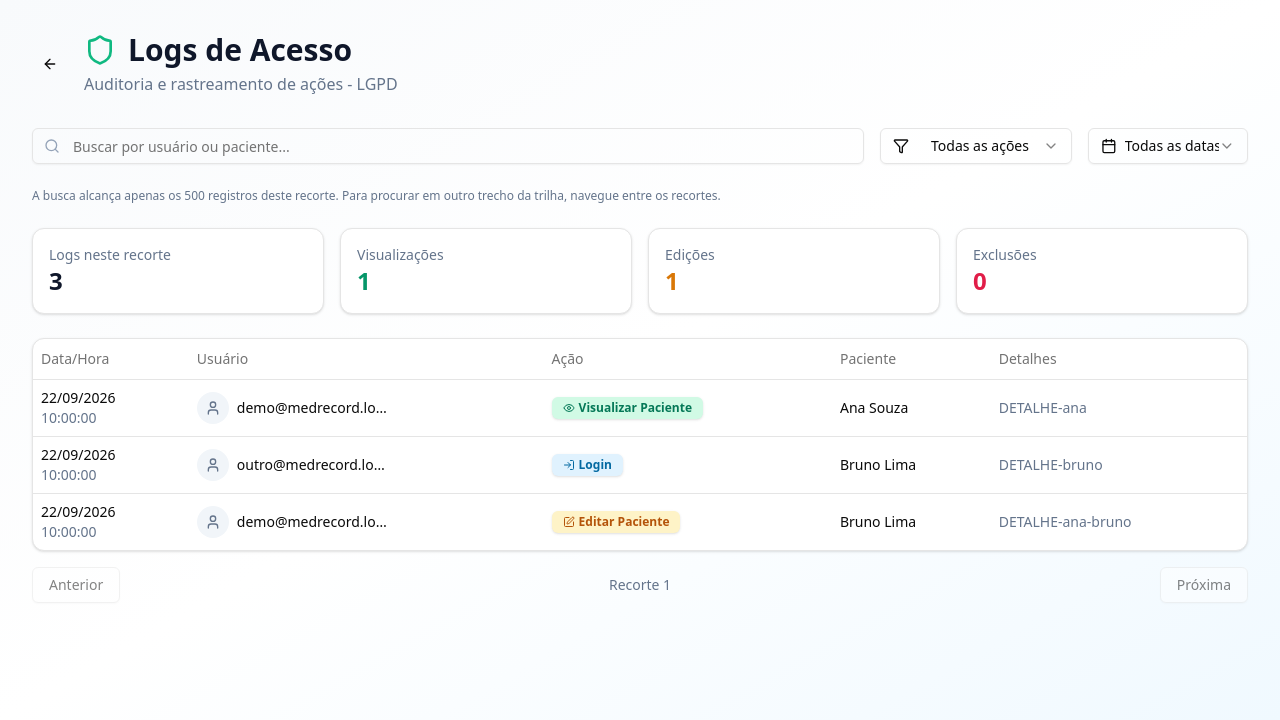
it: AccessLogs — os três filtros › busca por usuário e por paciente sem diferenciar maiúsculas
Expected: the text "DETALHE-ana" is shown, [999,398,1087,416]
Type "BRUNO" into the field with placeholder "Buscar por usuário ou paciente..." at (448, 146), box [32,128,864,164]
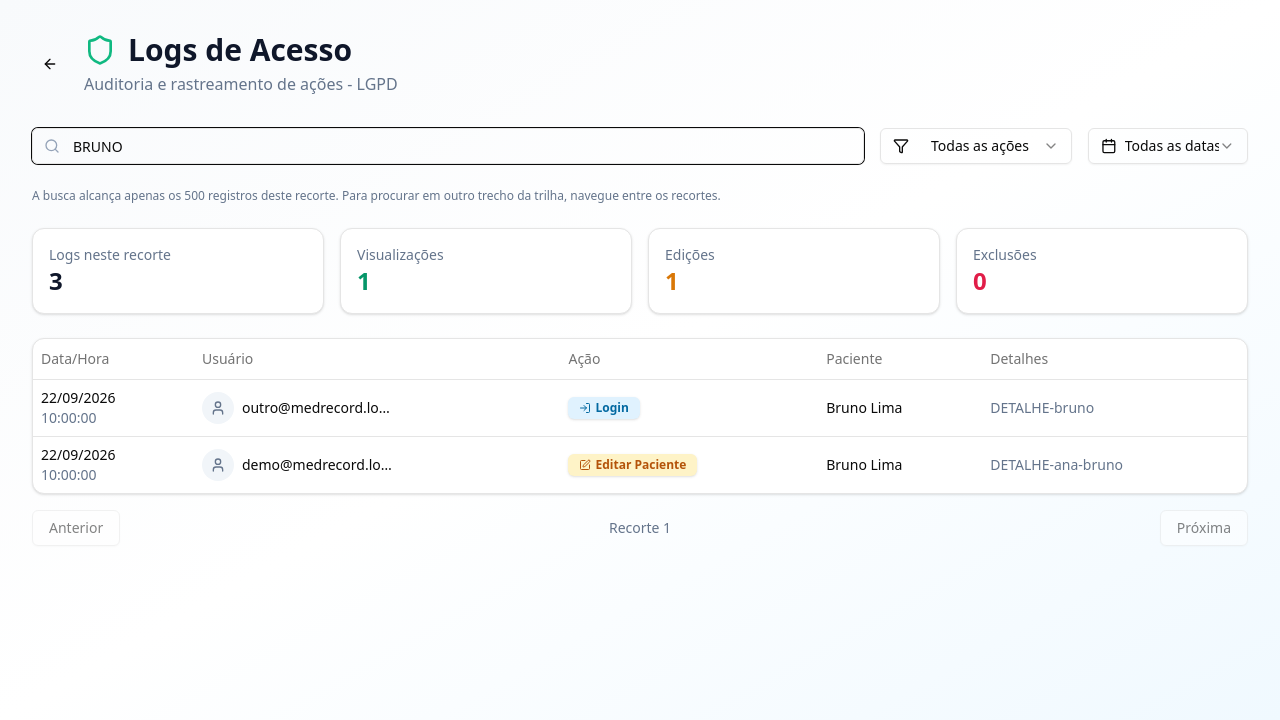
Expected: the text "DETALHE-bruno" is shown, [990,398,1094,416]
Expected: the text "DETALHE-ana-bruno" is shown, [990,454,1123,474]
Replace the text in the field with placeholder "Buscar por usuário ou paciente..." with "outro@" at (448, 146), box [32,128,864,164]
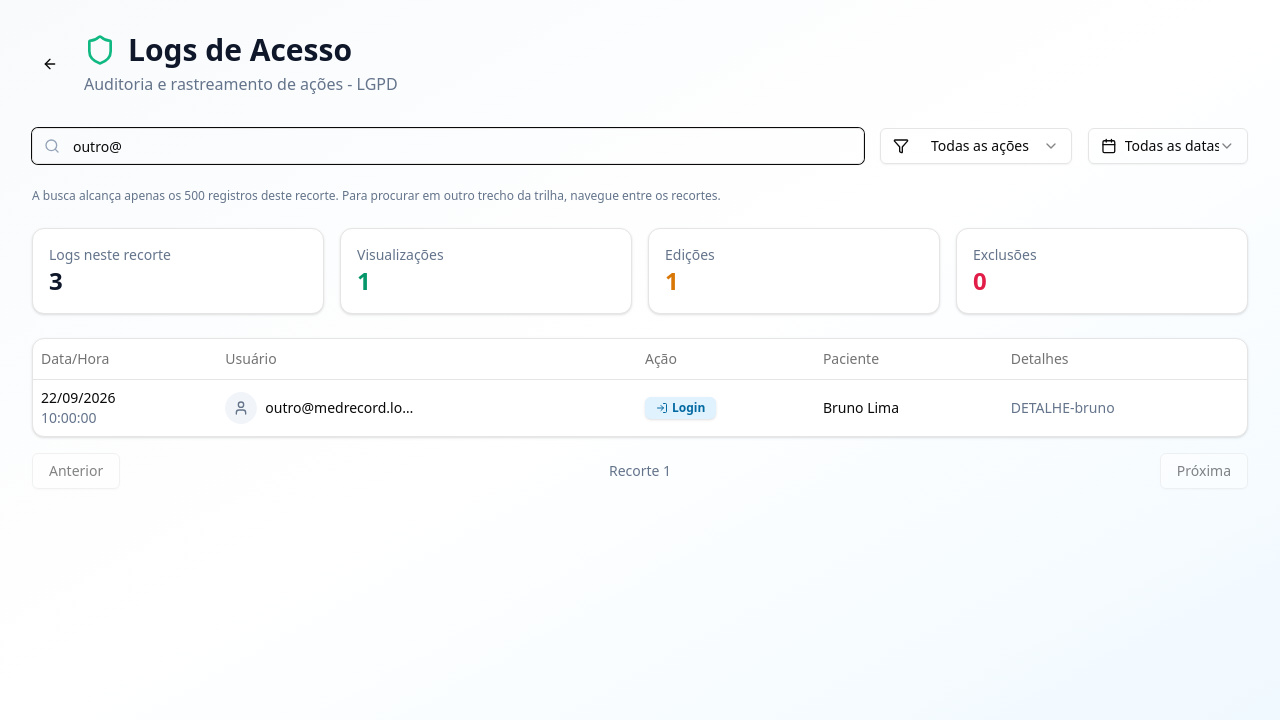
Expected: the text "DETALHE-bruno" is shown, [1011,398,1115,416]
Now the text "DETALHE-ana-bruno" is gone
